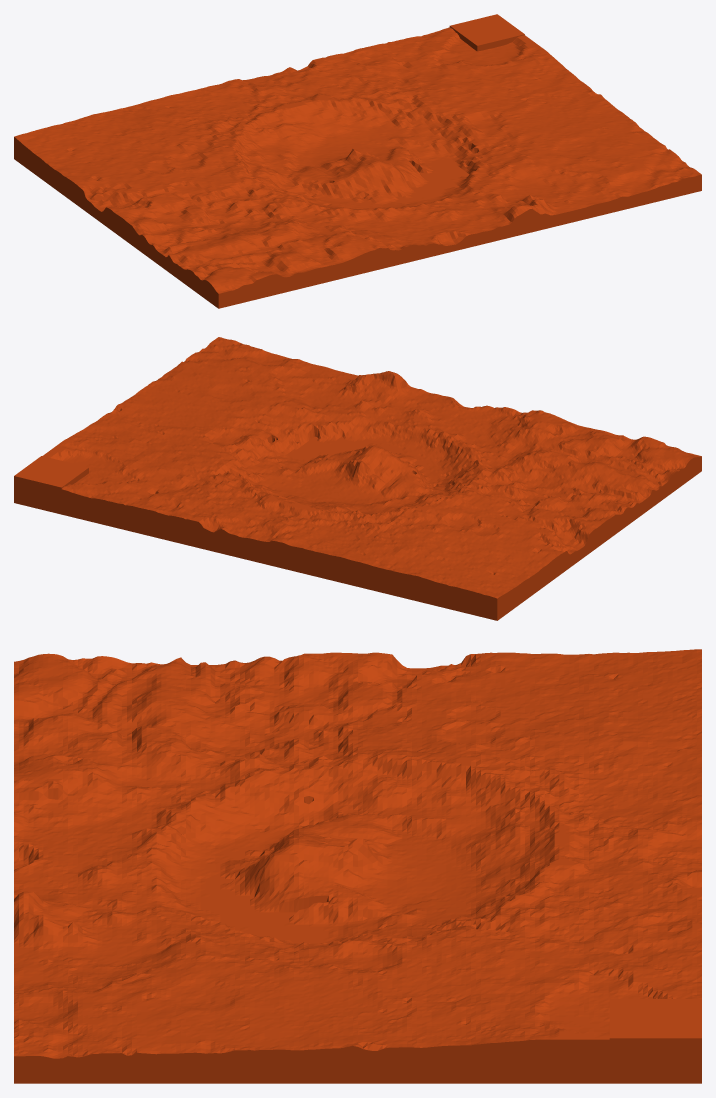
Rendered from CuriosityLandingSite(QR).fbx.
3 views of the same model, one above another, from view 1: azimuth 30°, elevation 25°; view 2: azimuth 150°, elevation 25°; view 3: azimuth 270°, elevation 25° (orthographic). The views are drawn at different scales.
Visible parts, largest first — view 1: CuriosityQR; view 2: CuriosityQR; view 3: CuriosityQR.
Part boxes in pixels (left/top/right/bottom): CuriosityQR: left=14, top=14, right=701, bottom=308; CuriosityQR: left=14, top=337, right=701, bottom=620; CuriosityQR: left=14, top=649, right=701, bottom=1083.
Size of the model in its own units: 76130 by 4065 by 55802.
